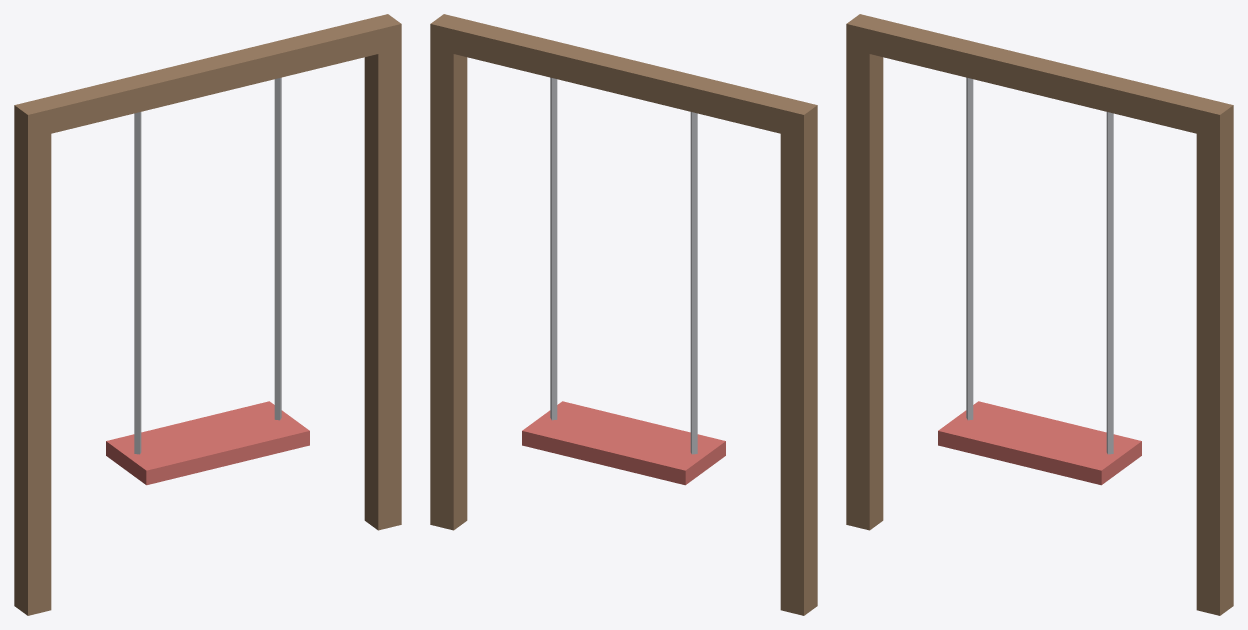
File: columpio.glb
3 views of the same model, side by side, from view 1: azimuth 30°, elevation 25°; view 2: azimuth 150°, elevation 25°; view 3: azimuth 330°, elevation 25° (orthographic).
Visible parts, largest first — view 1: estructura, asiento; view 2: estructura, asiento; view 3: estructura, asiento.
Part boxes in pixels (<box>): estructura: <box>14,14,401,615</box>; asiento: <box>106,77,309,485</box>; estructura: <box>430,14,817,615</box>; asiento: <box>522,77,725,485</box>; estructura: <box>846,14,1233,615</box>; asiento: <box>938,77,1141,485</box>.
Bounding box in the file's own units: 1.6 × 2.05 × 0.3.
